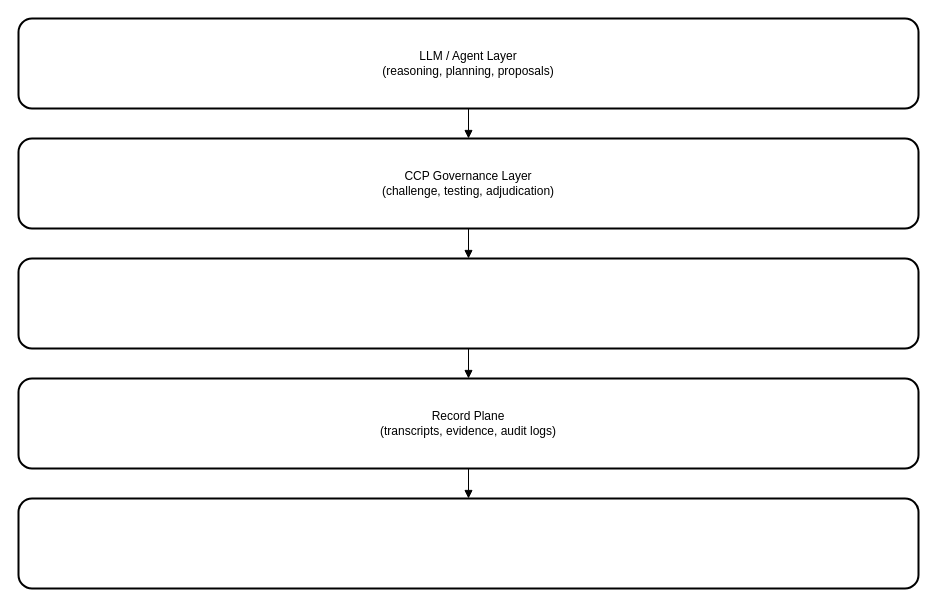
This 936x606 diagram has some shape labels left out. The box of each missing label's shape, as (x1, y1, x2, y2) in pixels:
Execution Environment (APIs, workflows, infrastructure): (17, 257, 919, 349)
Learning Loop (policy updates, model feedback): (17, 497, 919, 589)
